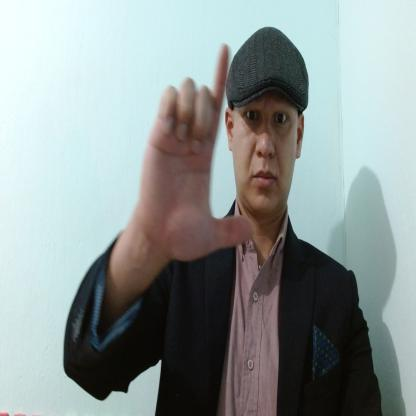L: (140, 44, 252, 262)
